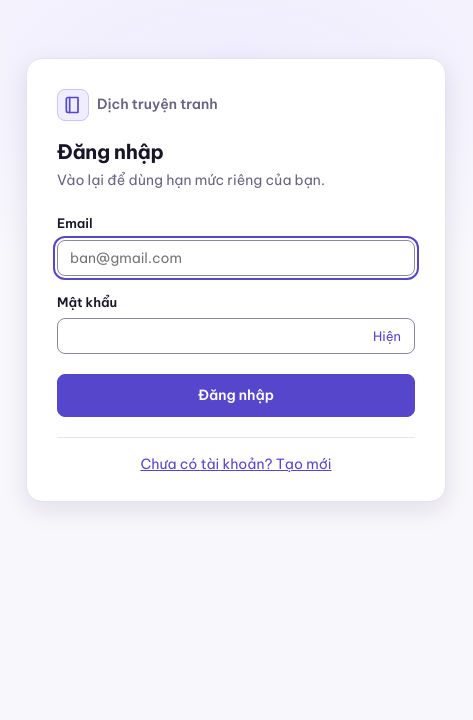
Test: màn đăng nhập › E52 — đã có tài khoản thì màn TẠO MỚI không đòi khoá chung nữa
Click the button "Chưa có tài khoản? Tạo mới" at (236, 464), box [140, 454, 332, 475]
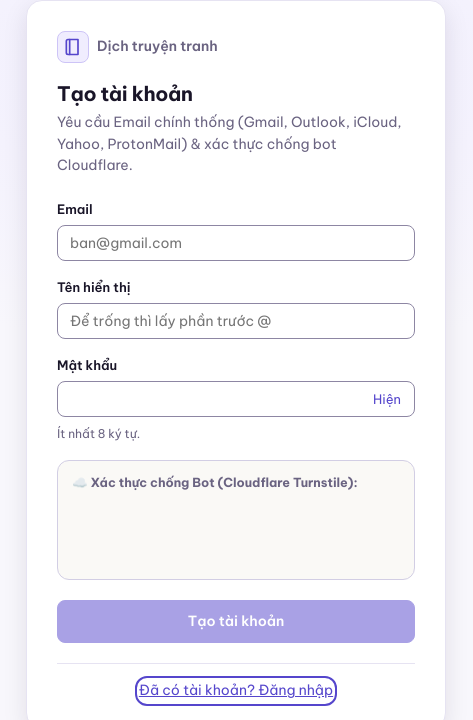
Expected: the button "Tạo tài khoản" is shown, [57, 600, 415, 643]
